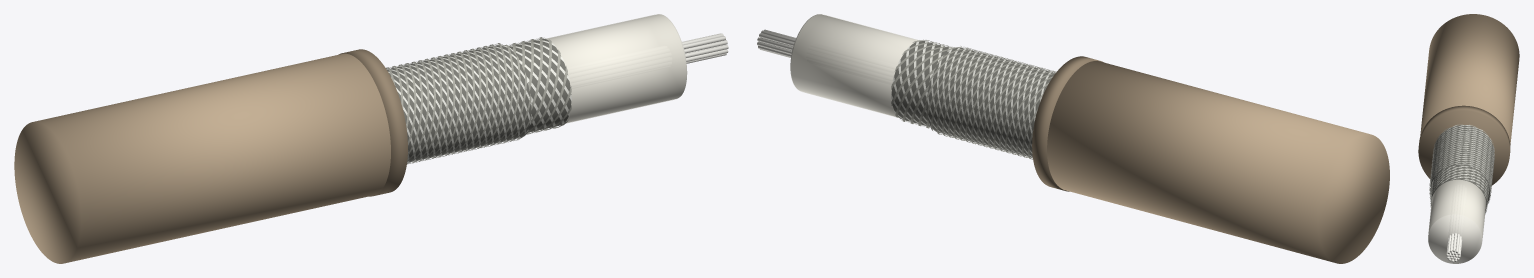
The picture shows the model from 3 angles, left to right: view 1: azimuth 30°, elevation 25°; view 2: azimuth 150°, elevation 25°; view 3: azimuth 270°, elevation 25°; orthographic projection. The views are drawn at different scales.
Parts seen in each view (by area): view 1: matte black pvc jacket body, smooth dielectric skin, gas injected foam dielectric, braid dark diamond recess, jacket cut lip, inner braid dark diamond recess, braid left hand woven carrier 01, braid left hand woven carrier 14, braid left hand woven carrier 13, braid left hand woven carrier 12, braid left hand woven carrier 02; view 2: matte black pvc jacket body, smooth dielectric skin, gas injected foam dielectric, braid dark diamond recess, jacket cut lip, inner braid dark diamond recess, braid left hand woven carrier 09, braid left hand woven carrier 10, braid left hand woven carrier 08, braid left hand woven carrier 11; view 3: matte black pvc jacket body, gas injected foam dielectric, jacket cut lip, braid dark diamond recess, smooth dielectric skin, inner braid dark diamond recess, braid left hand woven carrier 10, braid left hand woven carrier 11, braid left hand woven carrier 09, braid left hand woven carrier 12, braid left hand woven carrier 08, braid left hand woven carrier 13 (+22 smaller).
Boxes of the visible parts, left/top/right/bottom form: matte black pvc jacket body: left=14, top=53, right=390, bottom=263; smooth dielectric skin: left=545, top=14, right=685, bottom=123; gas injected foam dielectric: left=546, top=14, right=687, bottom=122; braid dark diamond recess: left=387, top=44, right=531, bottom=161; jacket cut lip: left=339, top=49, right=407, bottom=196; inner braid dark diamond recess: left=509, top=38, right=571, bottom=132; braid left hand woven carrier 01: left=407, top=54, right=520, bottom=161; braid left hand woven carrier 14: left=407, top=44, right=513, bottom=155; braid left hand woven carrier 13: left=405, top=43, right=507, bottom=150; braid left hand woven carrier 12: left=399, top=44, right=500, bottom=152; braid left hand woven carrier 02: left=407, top=58, right=526, bottom=163; matte black pvc jacket body: left=1047, top=61, right=1389, bottom=263; smooth dielectric skin: left=791, top=14, right=917, bottom=117; gas injected foam dielectric: left=790, top=14, right=916, bottom=116; braid dark diamond recess: left=926, top=47, right=1054, bottom=157; jacket cut lip: left=1032, top=56, right=1103, bottom=191; inner braid dark diamond recess: left=891, top=41, right=948, bottom=126; braid left hand woven carrier 09: left=931, top=54, right=1048, bottom=154; braid left hand woven carrier 10: left=926, top=53, right=1052, bottom=153; braid left hand woven carrier 08: left=936, top=56, right=1043, bottom=156; braid left hand woven carrier 11: left=925, top=51, right=1055, bottom=151; matte black pvc jacket body: left=1420, top=14, right=1519, bottom=144; gas injected foam dielectric: left=1428, top=179, right=1485, bottom=263; jacket cut lip: left=1418, top=105, right=1510, bottom=185; braid dark diamond recess: left=1430, top=125, right=1493, bottom=204; smooth dielectric skin: left=1428, top=180, right=1486, bottom=237; inner braid dark diamond recess: left=1431, top=165, right=1488, bottom=210; braid left hand woven carrier 10: left=1432, top=128, right=1493, bottom=195; braid left hand woven carrier 11: left=1430, top=130, right=1493, bottom=187; braid left hand woven carrier 09: left=1430, top=126, right=1494, bottom=203; braid left hand woven carrier 12: left=1431, top=132, right=1493, bottom=176; braid left hand woven carrier 08: left=1431, top=124, right=1494, bottom=200; braid left hand woven carrier 13: left=1430, top=134, right=1493, bottom=186.
Size of the model in its own units: 6.53 by 1.25 by 1.38.
